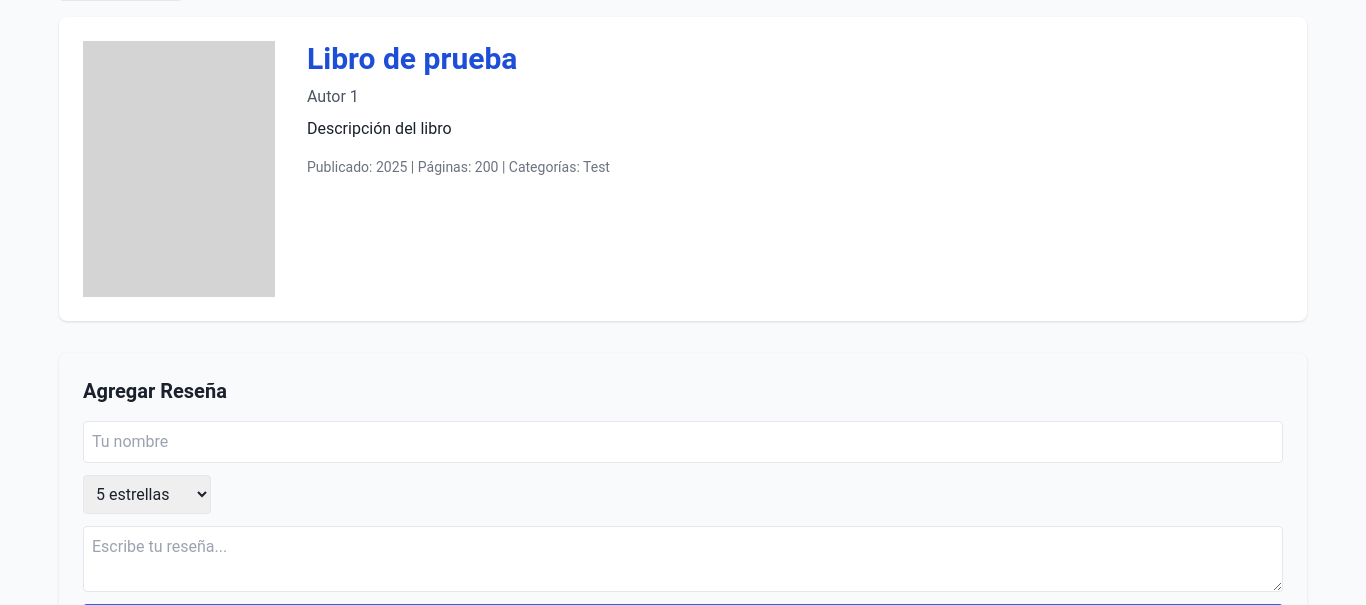
BookPage reseñas › cambia de like a dislike correctamente
Agregar reseña
Step 1. Type "Pedro" into the field with placeholder "Tu nombre" → (683, 442), box [83,421,1283,463]
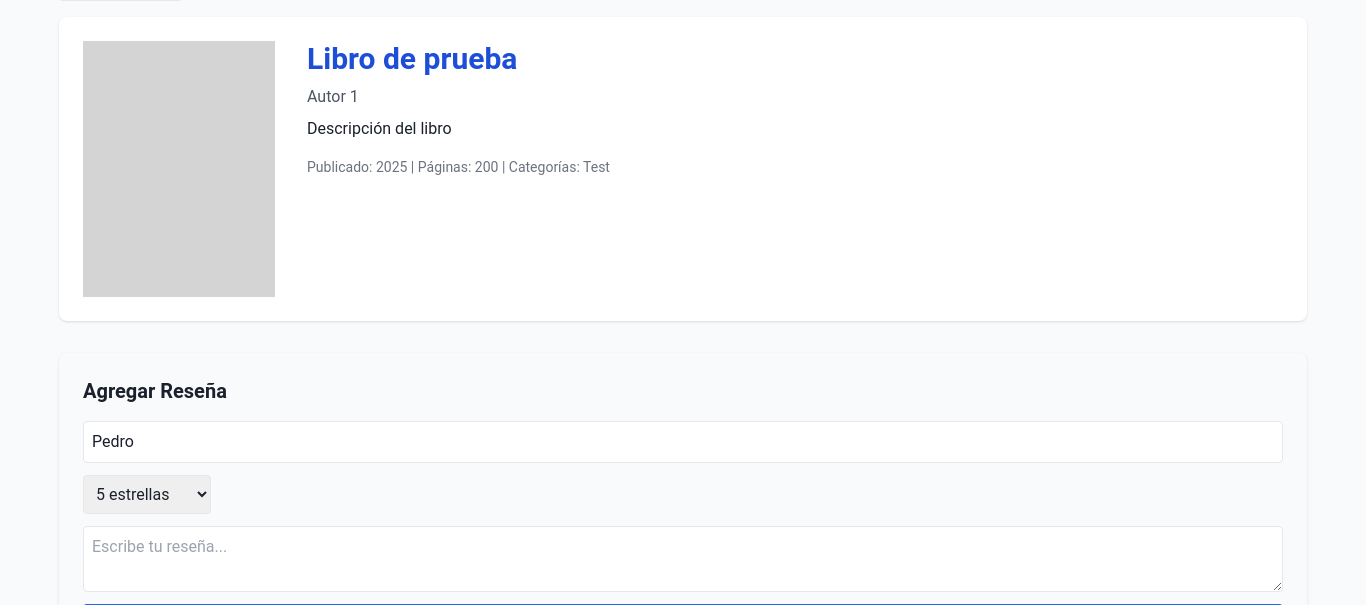
Step 2. Type "Está bien" into the text box with placeholder "Escribe tu reseña..." → (683, 559), box [83,526,1283,592]
(page scrolled)
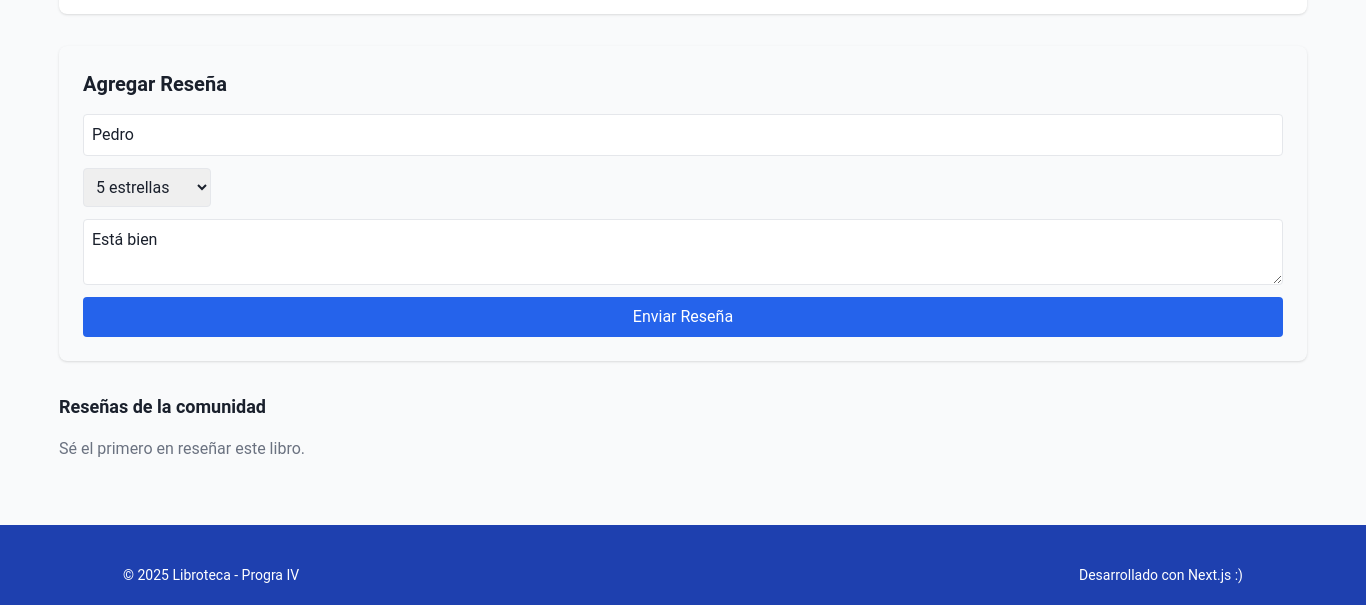
Step 3. Click the button "Enviar Reseña" → (683, 317), box [83,297,1283,337]
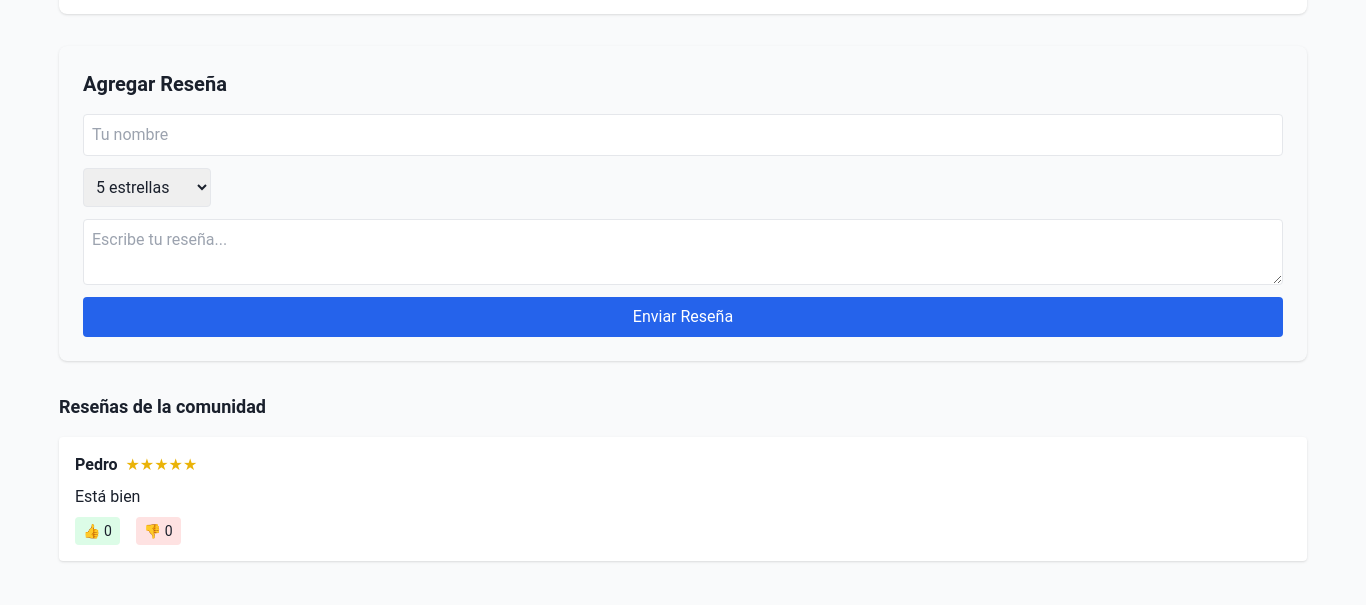
Step 4. Click the button "👍 0" → (97, 531), box [75,517,120,545]
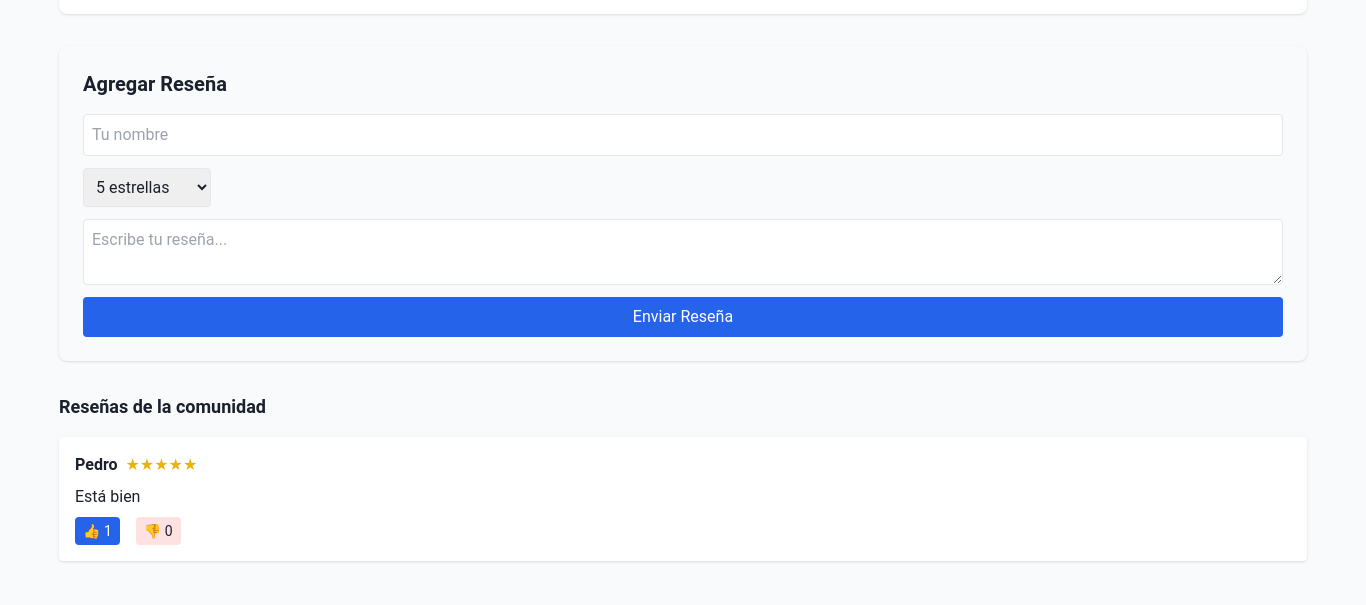
Expected: the button "👍 1" is shown, [75,517,120,545]
Cambiar a Dislike
Step 5. Click the button "👎 0" → (158, 531), box [136,517,181,545]
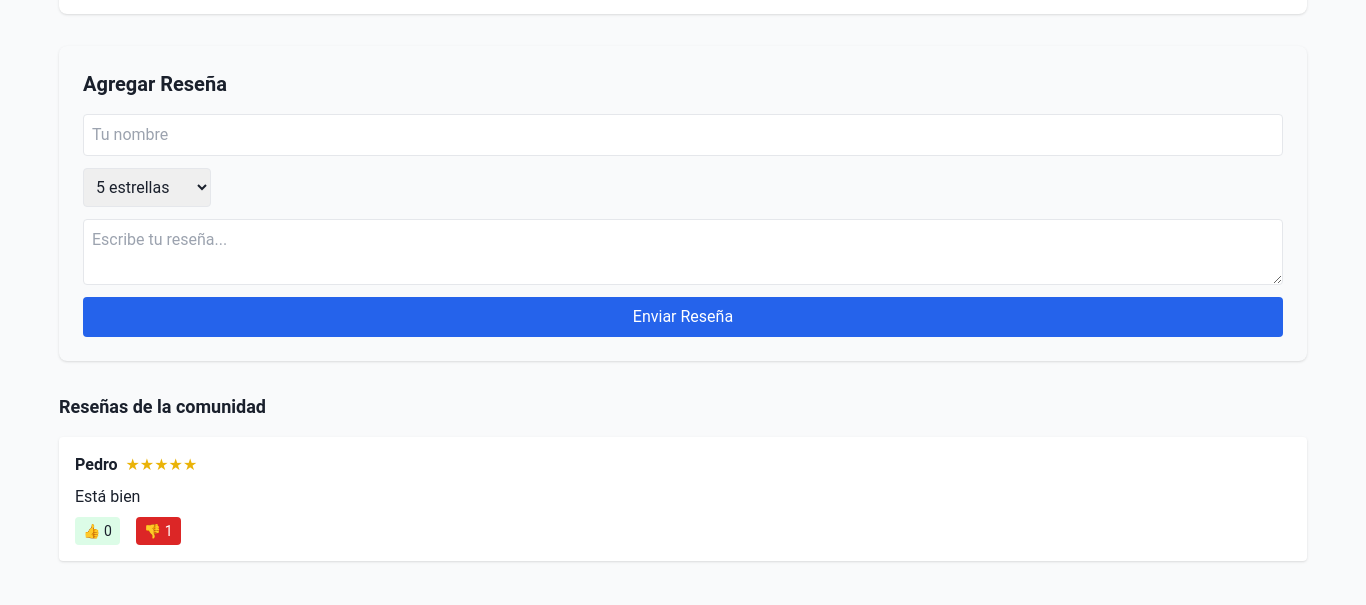
Expected: the button "👍 0" is shown, [75,517,120,545]
Expected: the button "👎 1" is shown, [136,517,181,545]
